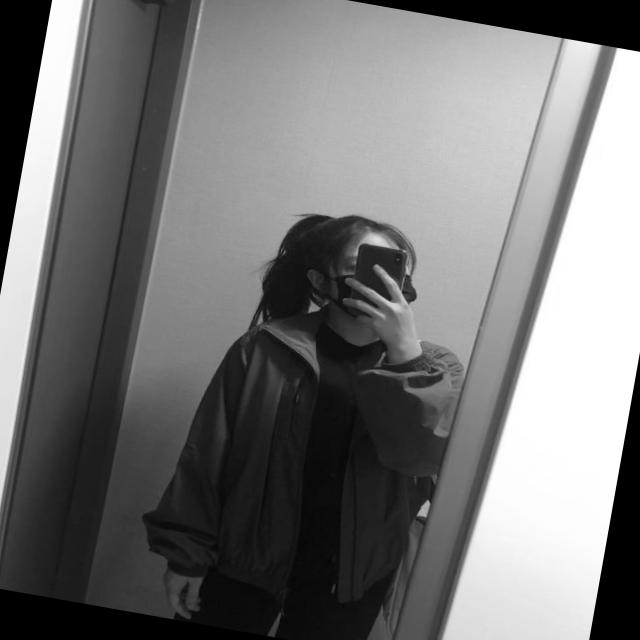jacket: (134, 278, 462, 616)
